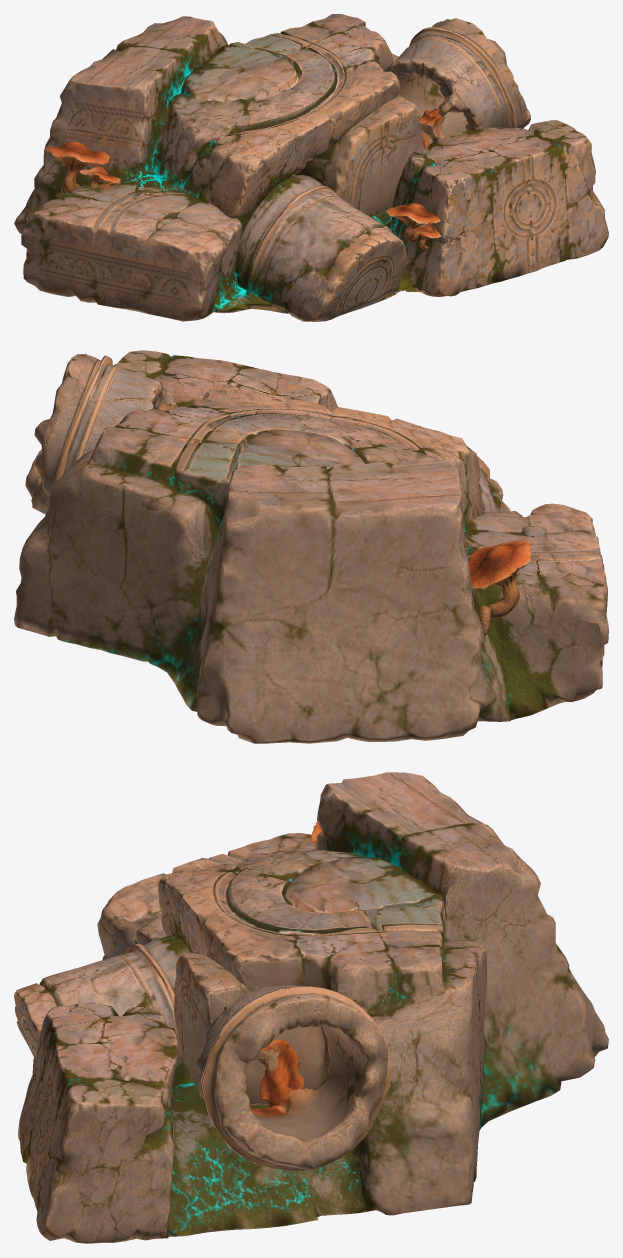
The model's file is citadel_rubble.glb.
3 renders of one model, top to bottom at view 1: azimuth 30°, elevation 25°; view 2: azimuth 150°, elevation 25°; view 3: azimuth 270°, elevation 25°, orthographic. The views are drawn at different scales.
Bounding box in the file's own units: 0.9541 × 0.3213 × 0.7637.
Materials: 1 (1 with a texture image).
